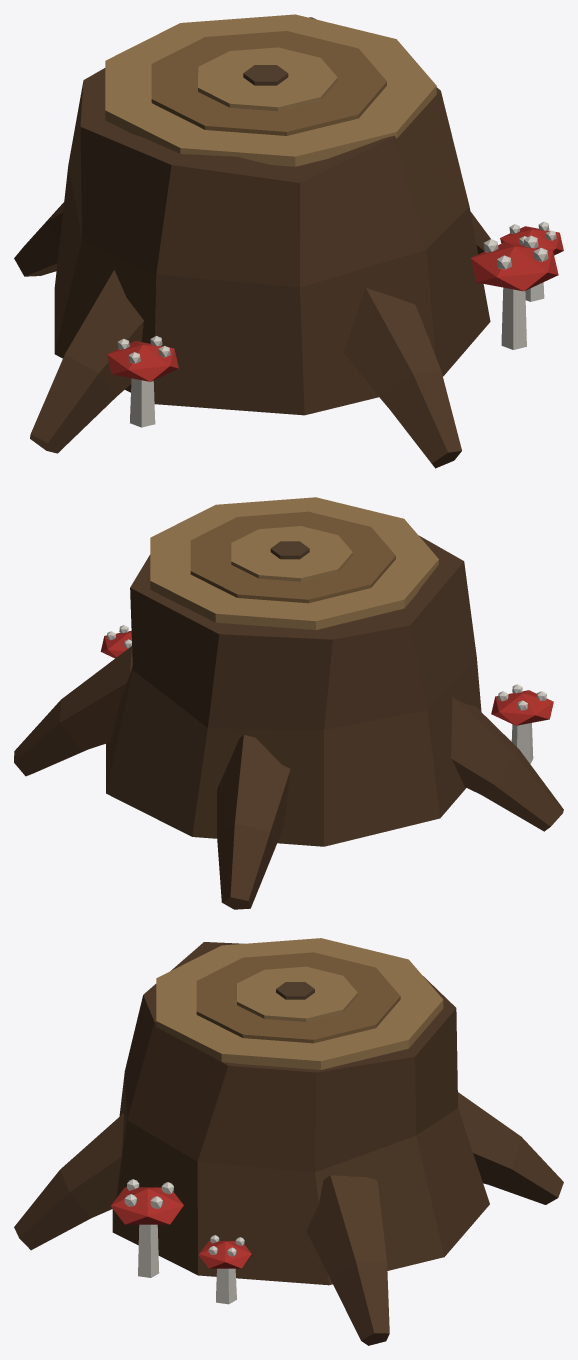
Rendered from stump.glb.
The picture shows the model from 3 angles, top to bottom: view 1: azimuth 30°, elevation 25°; view 2: azimuth 150°, elevation 25°; view 3: azimuth 270°, elevation 25°; orthographic projection. The views are drawn at different scales.
Visible parts, largest first — view 1: stump; view 2: stump; view 3: stump.
Part boxes in pixels (x1,y1,x2,y2): stump: (14, 14, 563, 468); stump: (14, 497, 563, 909); stump: (14, 938, 563, 1345).
Size of the model in its own units: 1.4 by 0.709 by 1.41.
